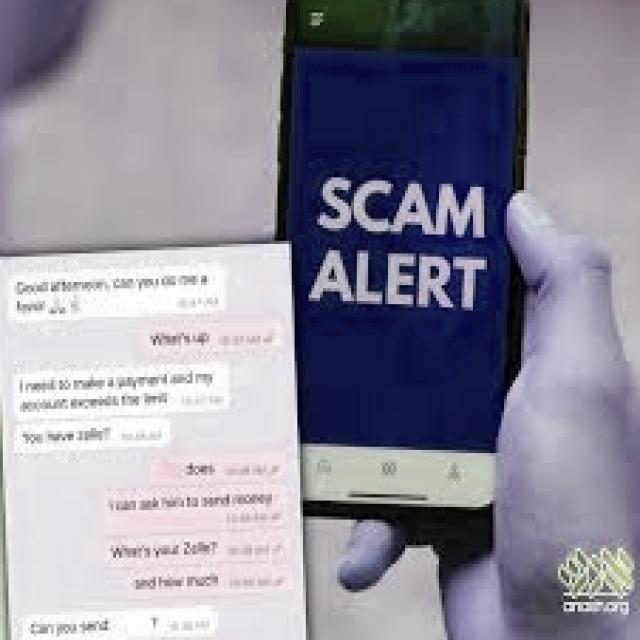scam: (11, 372, 228, 409), (7, 276, 215, 312), (22, 415, 166, 452), (27, 614, 149, 638)
